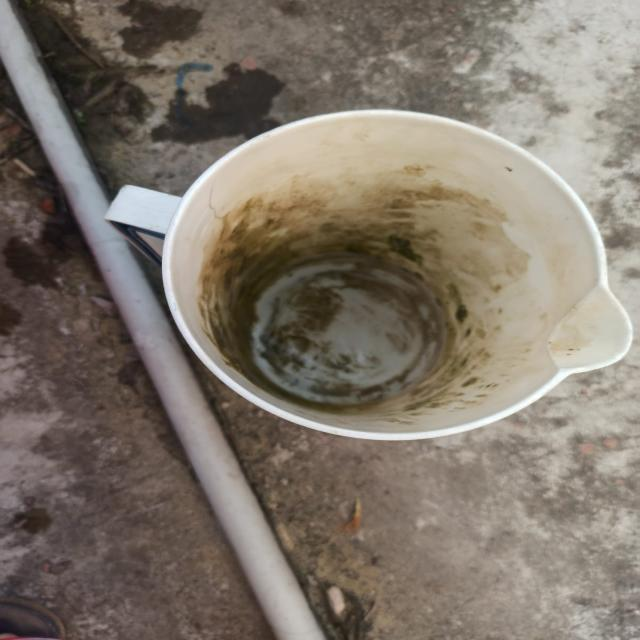Breeding Place: (85, 105, 640, 468)
